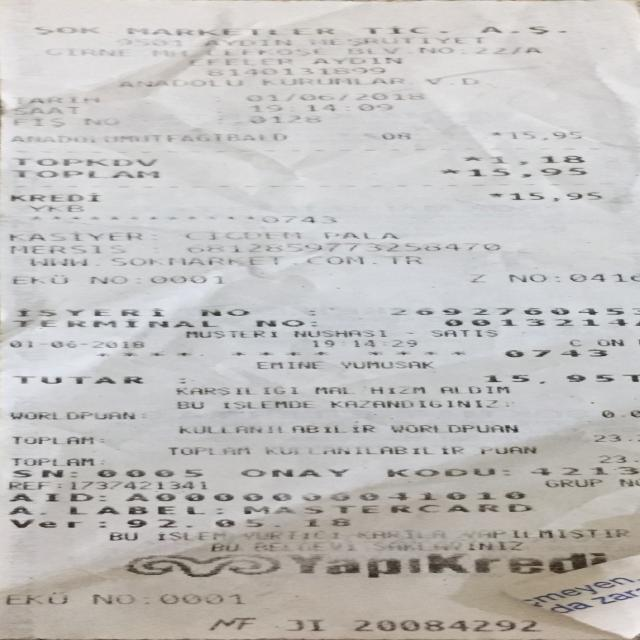text: (288, 552, 608, 574), (28, 254, 420, 266), (124, 490, 524, 500), (183, 241, 498, 252), (356, 616, 542, 632), (241, 504, 530, 514), (390, 305, 639, 316), (0, 133, 286, 142), (264, 444, 432, 456), (440, 317, 627, 327), (458, 528, 627, 539), (126, 26, 330, 35), (12, 318, 214, 327), (372, 540, 524, 551), (345, 46, 540, 54), (177, 424, 372, 432), (96, 465, 207, 479), (529, 463, 639, 477), (15, 156, 154, 167), (65, 504, 201, 515), (239, 464, 345, 478), (6, 230, 140, 241), (304, 36, 488, 44), (243, 92, 423, 100), (204, 67, 383, 75), (384, 464, 494, 477), (159, 590, 242, 607), (7, 242, 124, 254), (74, 480, 213, 490), (331, 399, 498, 407), (181, 229, 301, 240), (12, 169, 158, 178), (466, 167, 584, 178), (0, 339, 142, 348), (15, 374, 140, 384), (13, 308, 164, 316), (352, 528, 444, 541), (386, 424, 516, 433), (9, 410, 133, 419), (239, 529, 340, 540), (208, 47, 329, 56), (252, 541, 356, 551), (502, 348, 605, 358), (156, 529, 233, 542), (262, 77, 404, 84), (248, 104, 390, 111), (173, 386, 295, 394), (5, 590, 66, 606), (120, 78, 241, 86), (166, 444, 246, 456), (5, 491, 92, 502), (150, 273, 223, 286), (507, 191, 600, 201), (175, 57, 291, 65), (7, 191, 97, 201), (222, 399, 311, 409), (479, 24, 563, 34), (11, 517, 87, 528), (310, 339, 414, 347), (318, 230, 400, 240), (11, 456, 90, 466), (12, 95, 98, 104), (291, 330, 385, 338), (489, 155, 582, 163), (260, 214, 334, 224), (183, 330, 275, 338), (309, 56, 400, 64), (12, 465, 64, 479), (340, 360, 430, 368), (559, 373, 638, 382), (127, 517, 198, 527), (569, 272, 637, 282), (46, 48, 121, 57), (15, 435, 89, 444), (478, 444, 537, 455), (204, 37, 284, 45), (92, 590, 132, 606), (32, 26, 94, 36), (8, 274, 70, 284), (365, 385, 425, 395), (281, 618, 327, 631), (11, 106, 77, 115), (509, 131, 582, 139), (108, 38, 180, 46), (365, 24, 421, 34), (437, 385, 507, 393), (200, 306, 248, 317), (429, 329, 495, 337), (542, 478, 600, 487), (254, 360, 319, 368), (246, 115, 319, 122), (210, 518, 266, 527), (300, 517, 354, 526), (200, 541, 242, 552), (6, 504, 44, 516), (7, 480, 52, 490), (567, 338, 622, 346), (483, 374, 527, 384), (10, 118, 64, 126), (90, 274, 126, 286), (254, 318, 302, 327), (365, 131, 409, 140), (426, 76, 475, 84), (27, 204, 80, 211), (81, 116, 118, 126), (312, 385, 353, 394), (106, 530, 134, 543), (504, 273, 540, 282), (149, 49, 190, 56), (590, 433, 618, 442), (596, 410, 638, 416), (175, 400, 202, 409), (596, 454, 624, 462), (439, 167, 457, 178), (612, 478, 639, 485), (487, 191, 501, 202), (462, 156, 480, 164), (97, 517, 110, 528), (461, 273, 473, 283), (549, 273, 561, 283), (68, 468, 80, 478), (504, 398, 514, 408), (55, 480, 65, 490), (501, 464, 508, 477), (437, 24, 446, 34), (490, 131, 500, 139), (98, 491, 104, 502), (214, 504, 219, 516), (405, 329, 412, 337), (308, 318, 314, 327), (143, 590, 146, 606), (136, 274, 139, 286), (150, 230, 153, 241)
